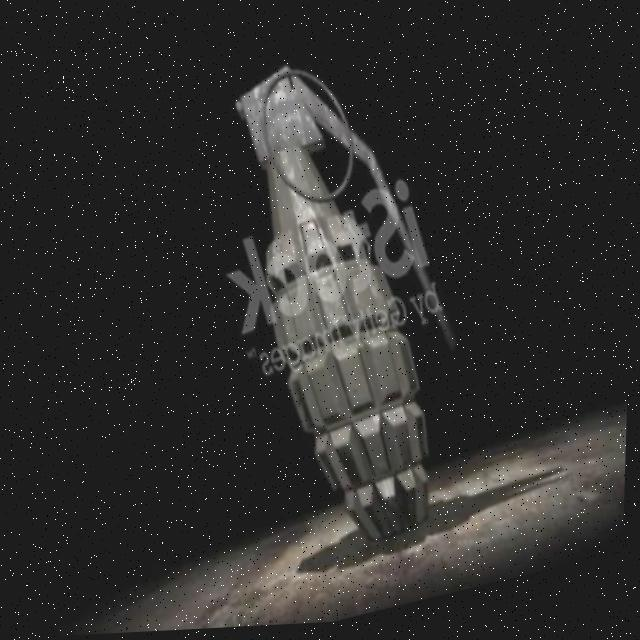grenade: (186, 15, 520, 587)
